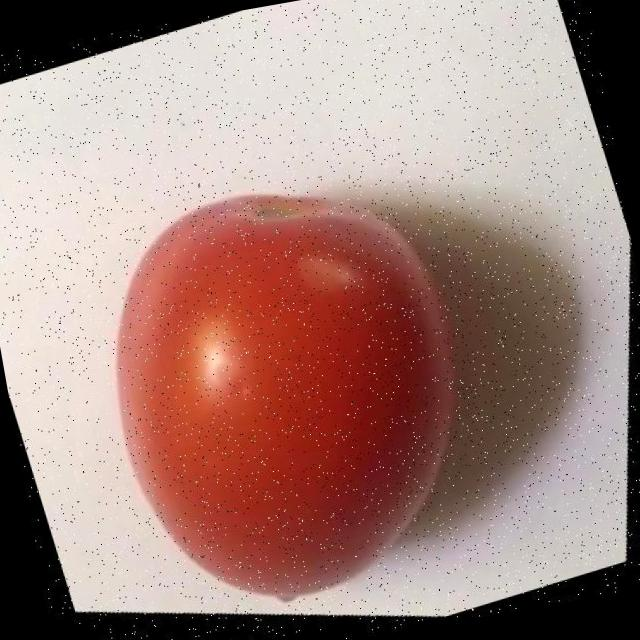tomato: (49, 119, 531, 632)
